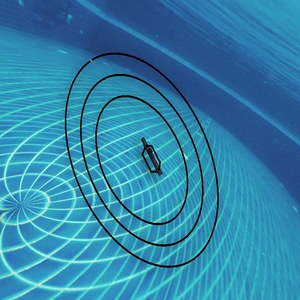circle: (26, 40, 242, 284)
submarine: (145, 141, 164, 175)
